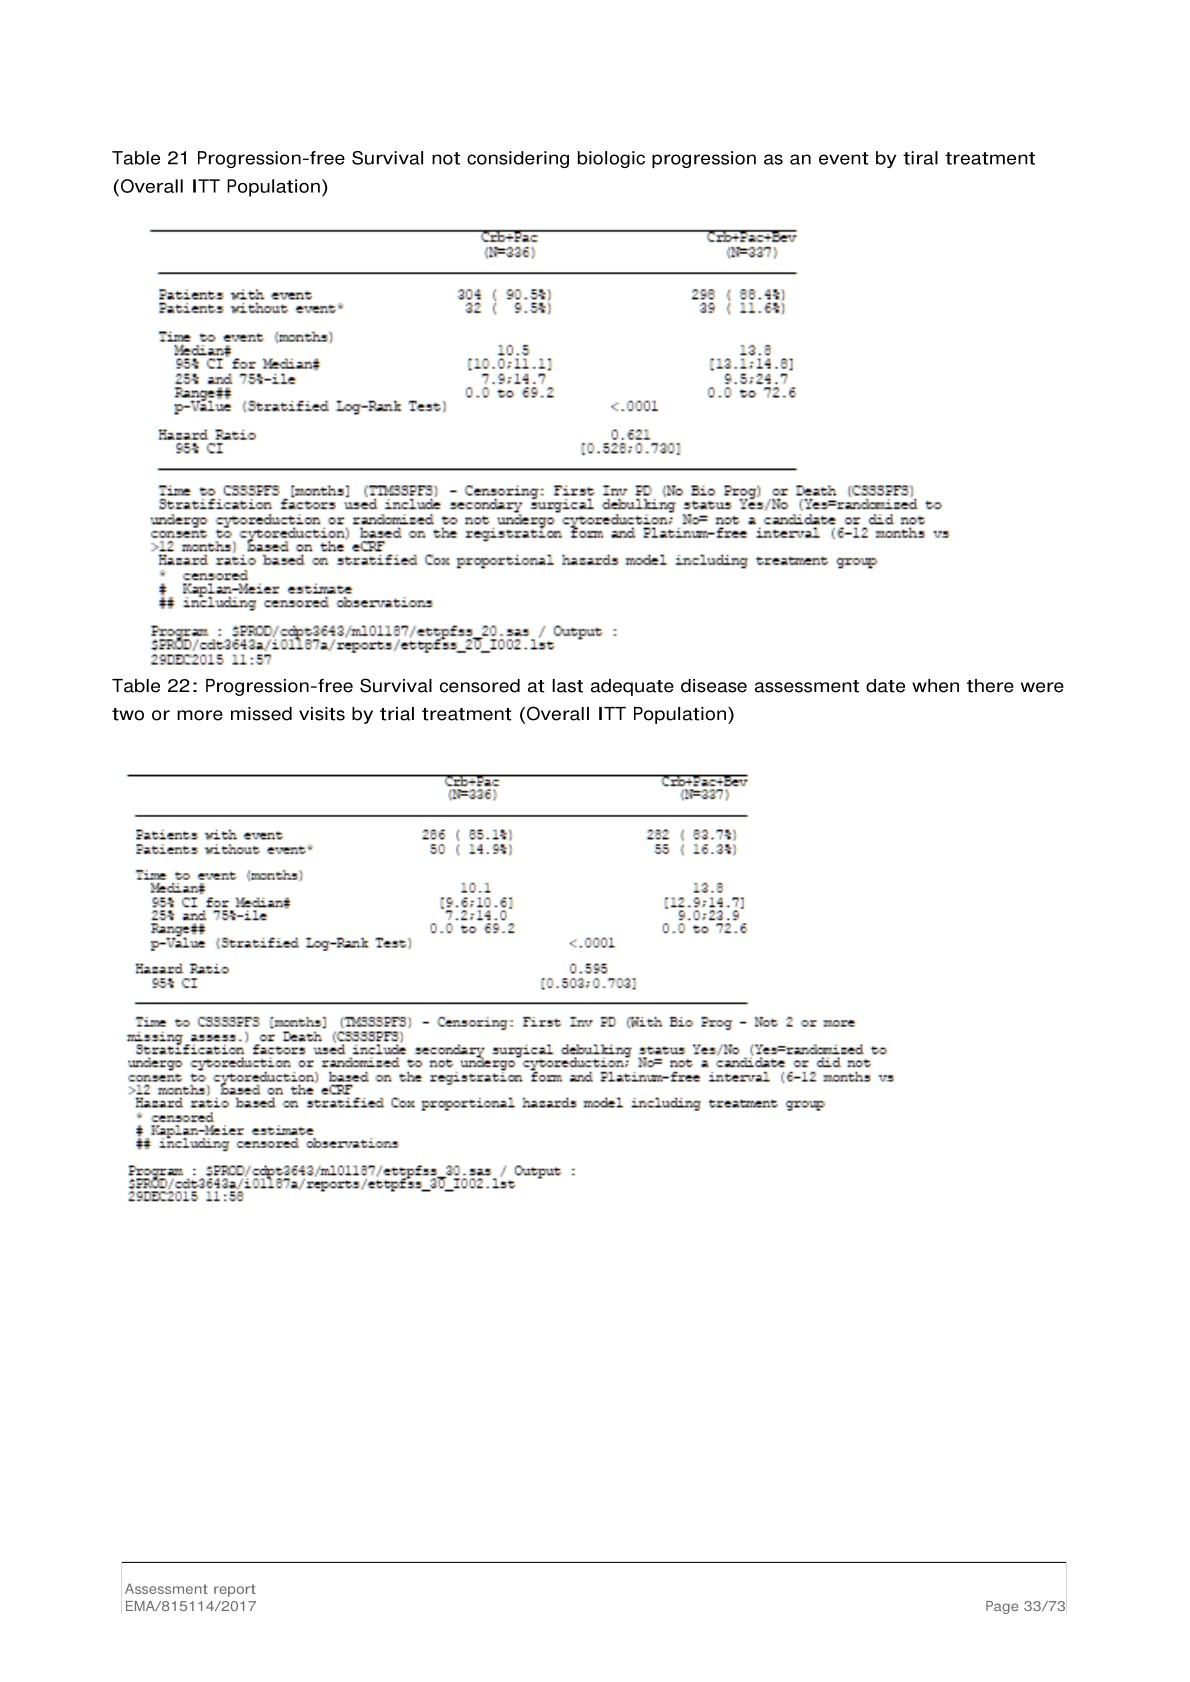partial_lined_merged_cells: (151, 228, 798, 471), (127, 773, 750, 1007)
